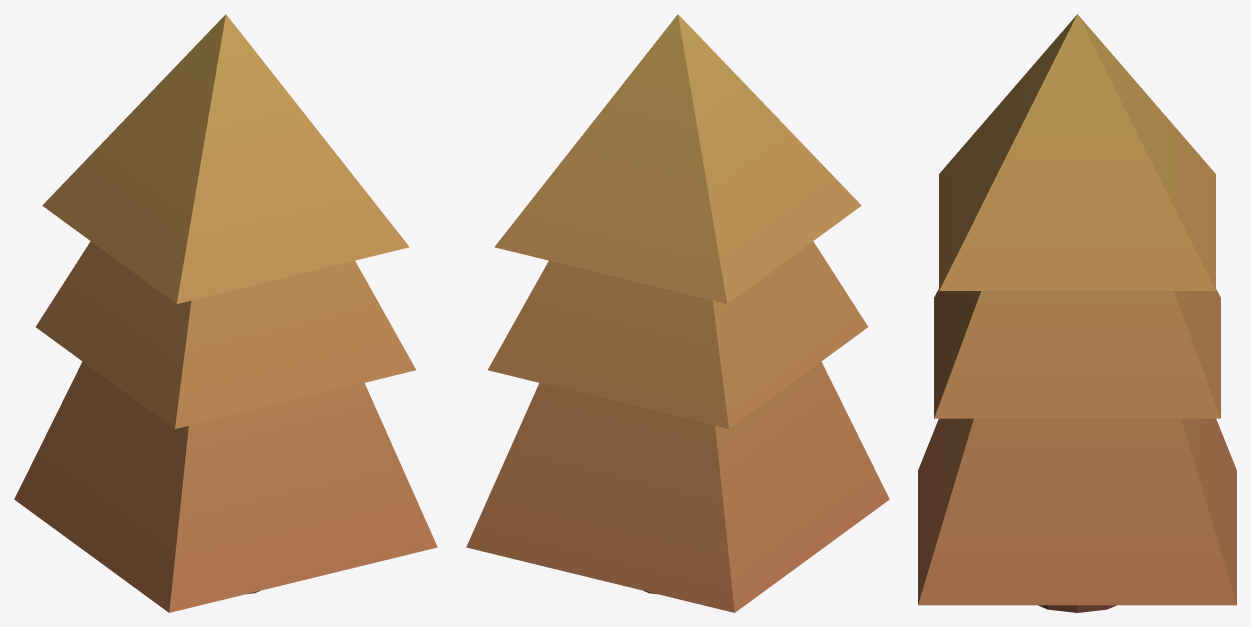
The model's file is Tree_18_gradient_yellow_vc.fbx.
3 views of the same model, side by side, from view 1: azimuth 30°, elevation 25°; view 2: azimuth 150°, elevation 25°; view 3: azimuth 270°, elevation 25° (orthographic). The views are drawn at different scales.
Parts seen in each view (by area): view 1: Tree_18_gradient_yellow_vc; view 2: Tree_18_gradient_yellow_vc; view 3: Tree_18_gradient_yellow_vc.
Boxes of the visible parts, x1=… form: Tree_18_gradient_yellow_vc: x1=14, y1=14, x2=437, y2=612; Tree_18_gradient_yellow_vc: x1=466, y1=14, x2=889, y2=612; Tree_18_gradient_yellow_vc: x1=918, y1=14, x2=1236, y2=612.
Size of the model in its own units: 95.96 by 191 by 95.96.
